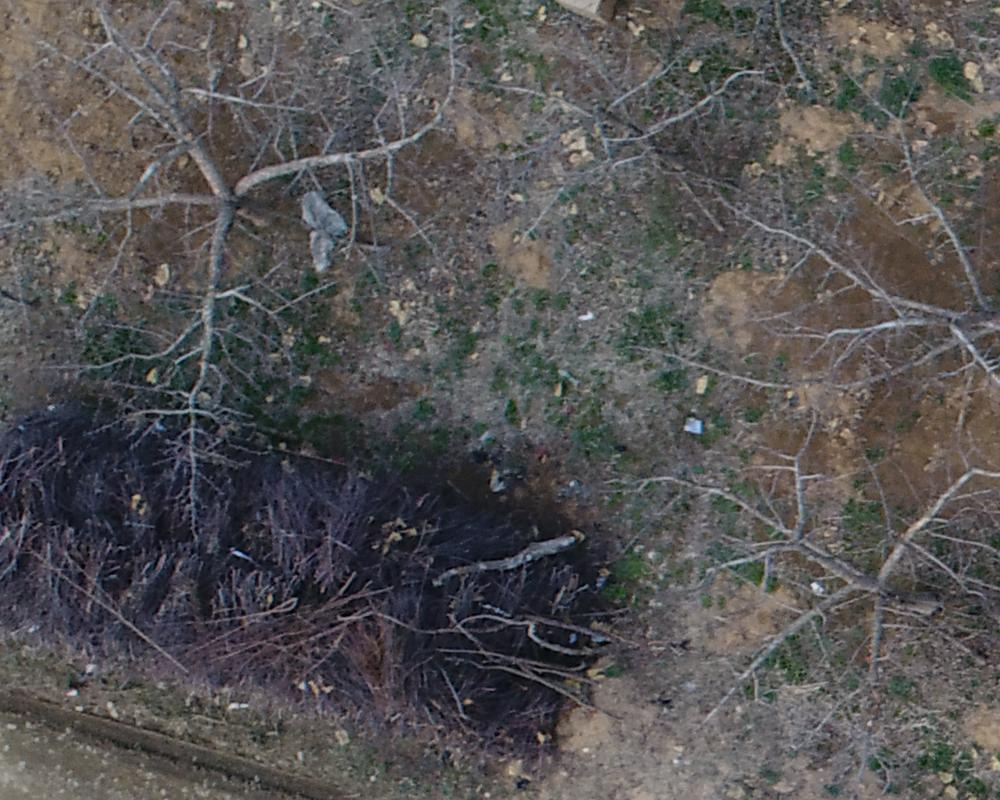apple: (10, 10, 470, 428), (728, 109, 990, 469), (658, 450, 990, 703), (463, 31, 770, 233)
